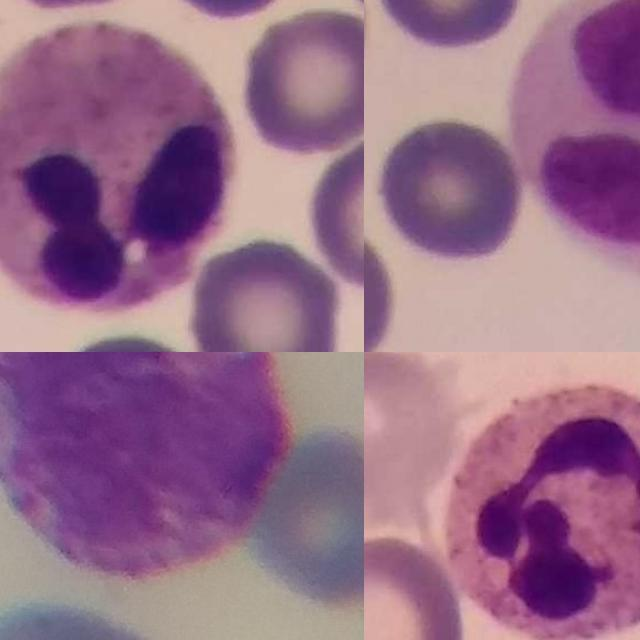Basophil: (0, 352, 288, 580)
Neutrophil: (0, 24, 238, 316), (438, 384, 640, 640), (512, 0, 640, 284)
